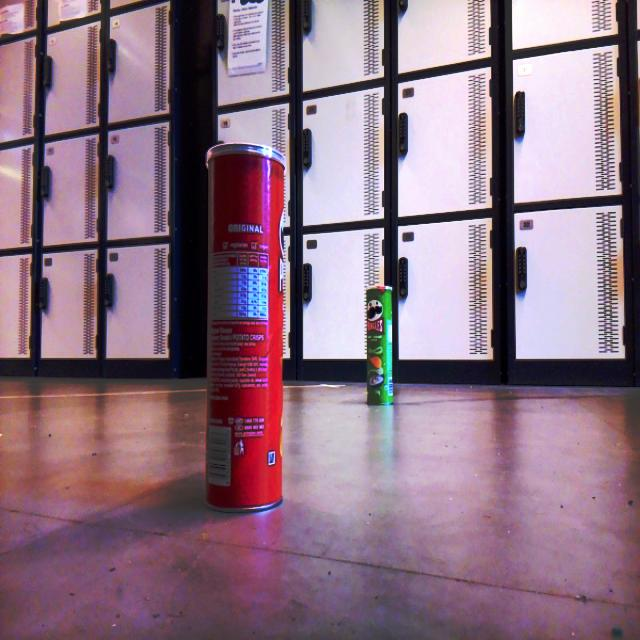greenpringles: (356, 281, 401, 410)
redpringles: (193, 138, 291, 534)
